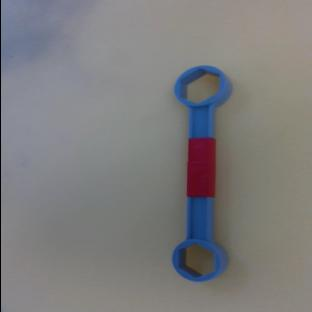part_3_good: (170, 65, 232, 282)
